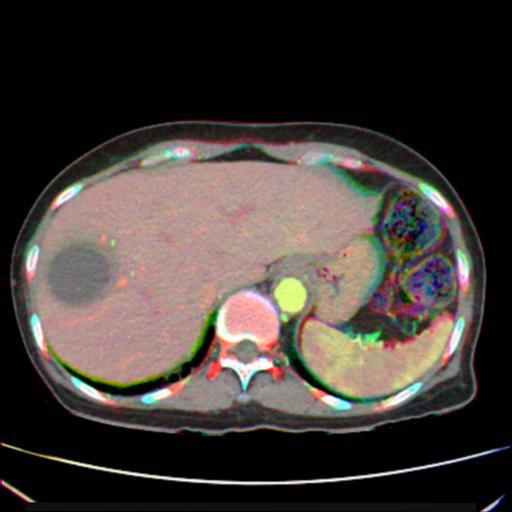Abscess: (48, 242, 112, 305)
